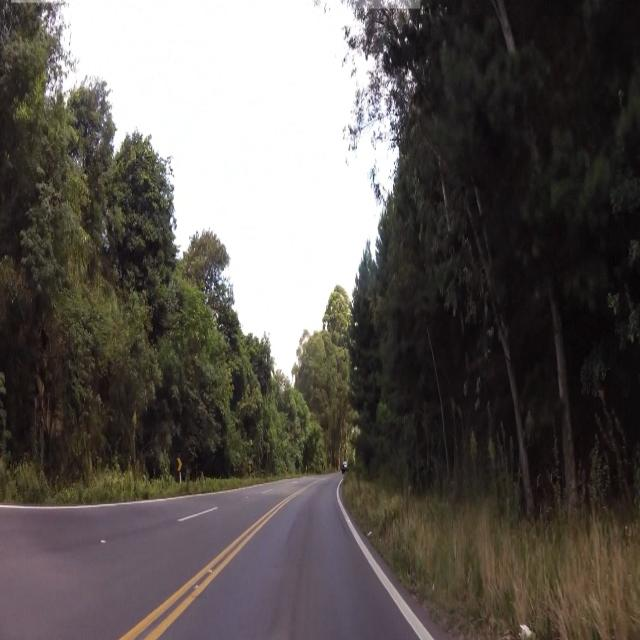Del: (178, 458, 182, 470)
